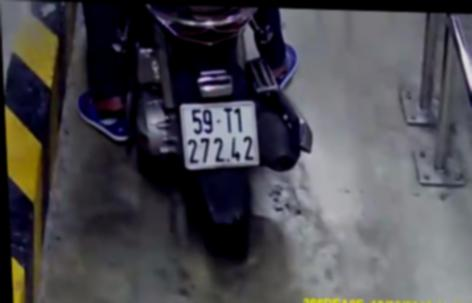License_Plate: (174, 95, 276, 179)
